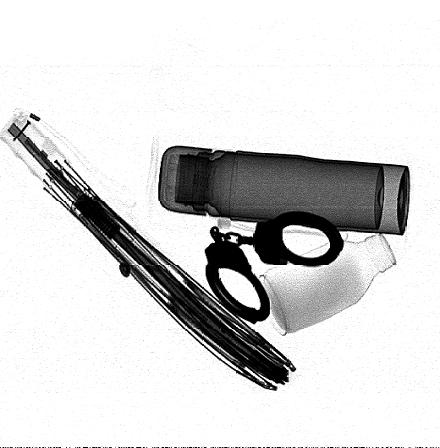HandCuffs: (204, 211, 345, 325)
